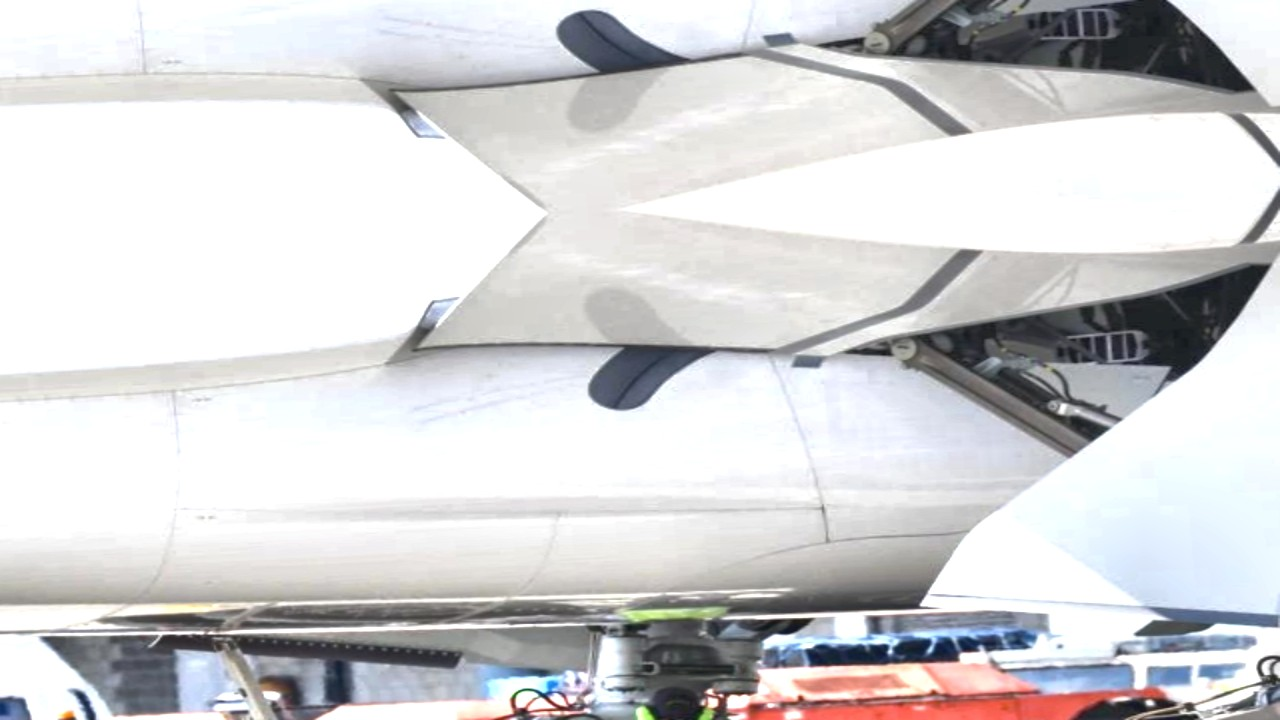wheel: (1045, 695, 1204, 720)
